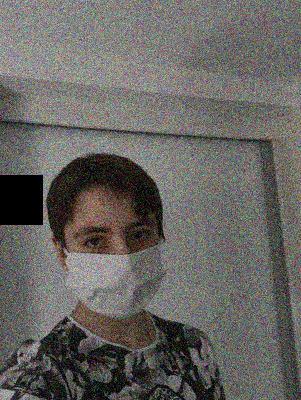with_mask: (62, 213, 166, 319)
